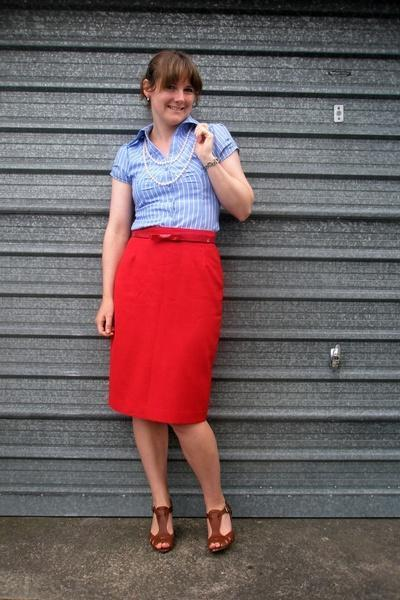shirt: (108, 108, 238, 230)
shoe: (152, 495, 237, 558)
skirt: (109, 225, 222, 426)
